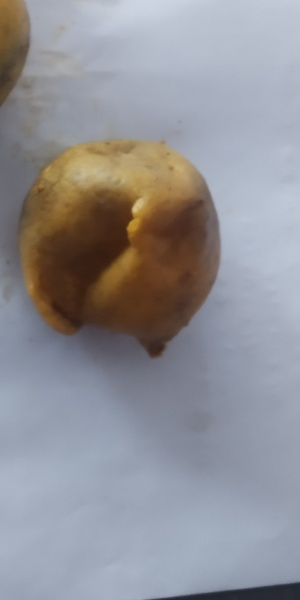BAD: (17, 137, 223, 359)
